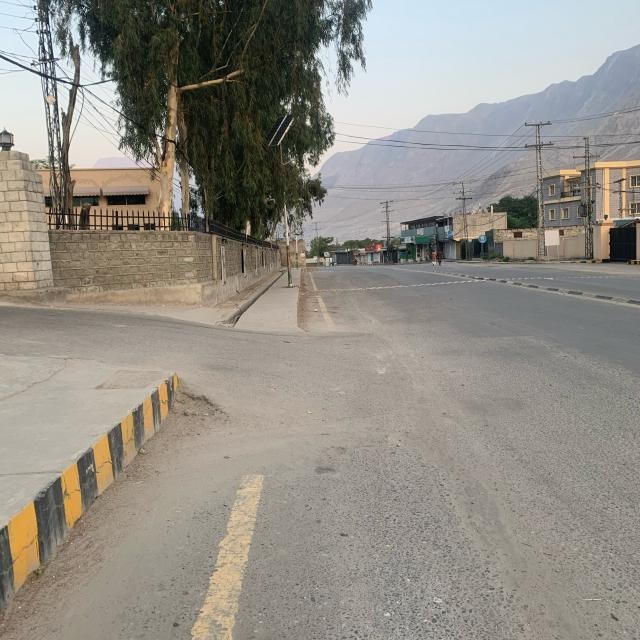Left-Turn: (10, 304, 354, 425)
straight: (319, 259, 637, 424)
